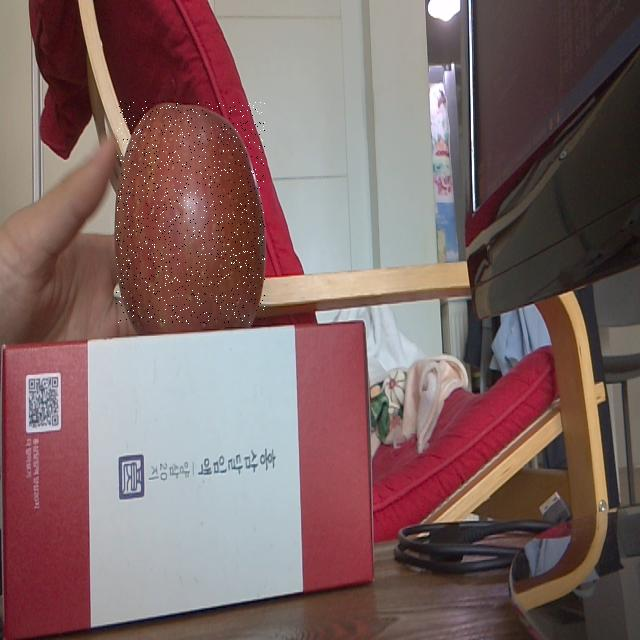apple: (116, 101, 265, 324)
